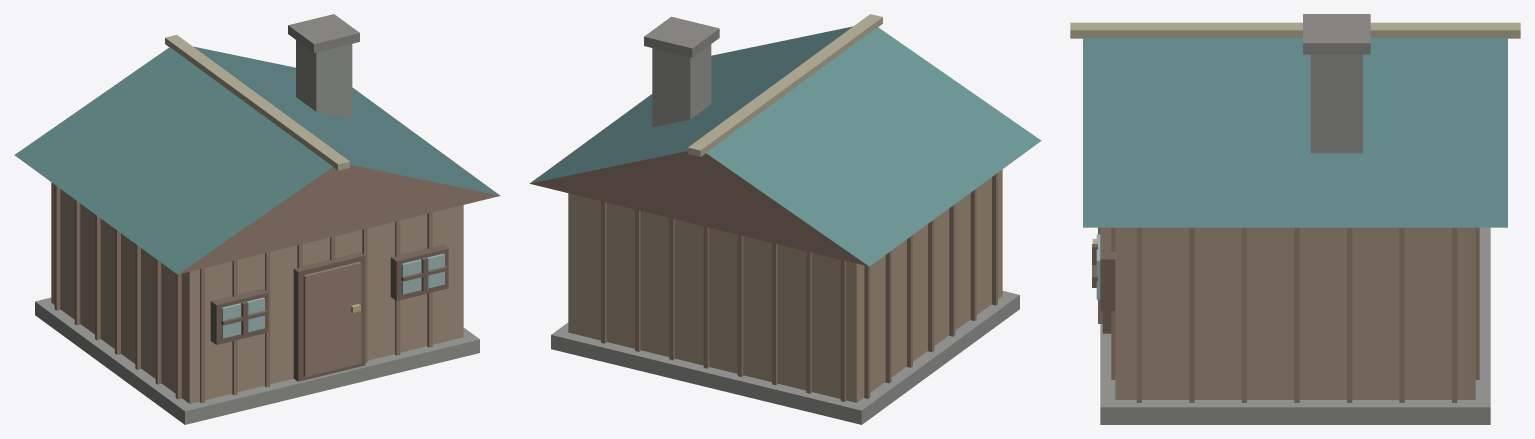
Rendered from hut.glb.
3 views of the same model, side by side, from view 1: azimuth 30°, elevation 25°; view 2: azimuth 150°, elevation 25°; view 3: azimuth 270°, elevation 25° (orthographic). The views are drawn at different scales.
Parts seen in each view (by area): view 1: 切妻の深緑屋根, 木壁と梁, 扉・窓・取手, 土台; view 2: 切妻の深緑屋根, 木壁と梁, 土台, 扉・窓・取手; view 3: 切妻の深緑屋根, 木壁と梁, 土台, 扉・窓・取手.
Boxes of the visible parts, left/top/right/bottom form: 切妻の深緑屋根: left=14, top=35, right=500, bottom=274; 木壁と梁: left=51, top=182, right=463, bottom=403; 扉・窓・取手: left=210, top=14, right=448, bottom=381; 土台: left=35, top=297, right=479, bottom=424; 切妻の深緑屋根: left=530, top=14, right=1041, bottom=266; 木壁と梁: left=568, top=169, right=1002, bottom=402; 土台: left=551, top=291, right=1019, bottom=424; 扉・窓・取手: left=644, top=16, right=719, bottom=127; 切妻の深緑屋根: left=1070, top=22, right=1520, bottom=227; 木壁と梁: left=1111, top=227, right=1479, bottom=402; 土台: left=1100, top=227, right=1490, bottom=424; 扉・窓・取手: left=1092, top=14, right=1370, bottom=333.
Size of the model in its own units: 6.46 by 5.22 by 6.
